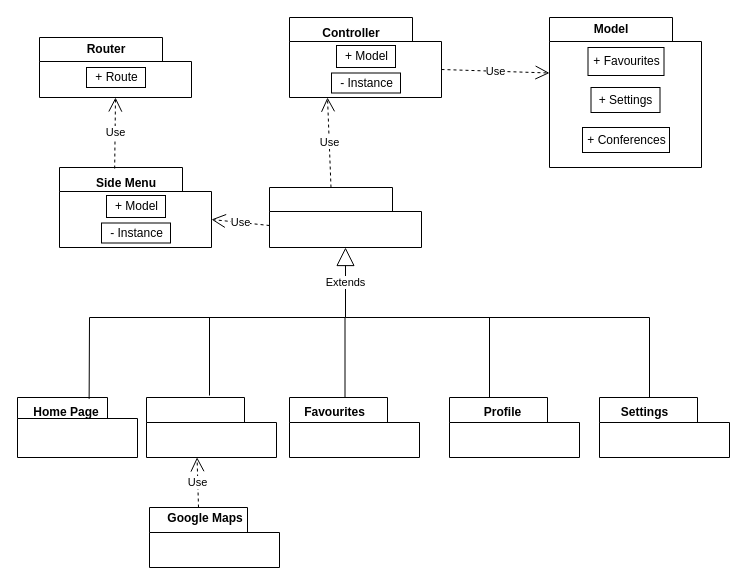
Some shapes in this 747 by 585 pixel diagram are drawn without their labels. Here are the shapes that lost their labels. From the top down, the box of each, then its label:
(268, 186, 422, 248): View
(146, 396, 276, 458): Map
